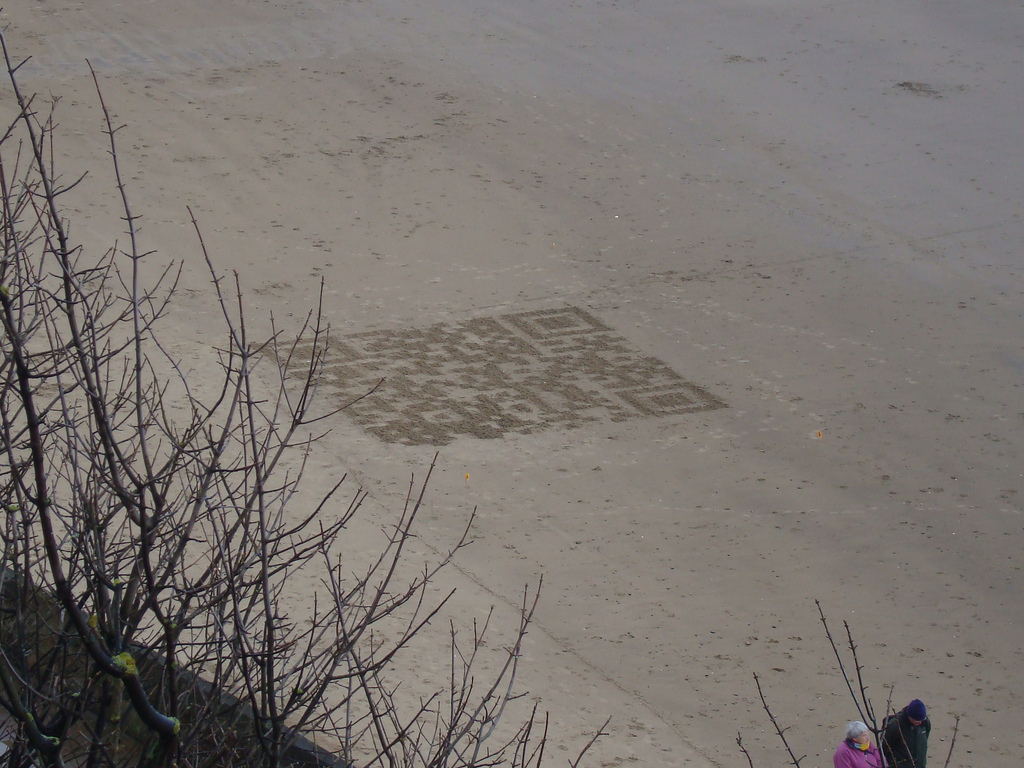QR-CODE: (250, 307, 728, 447)
